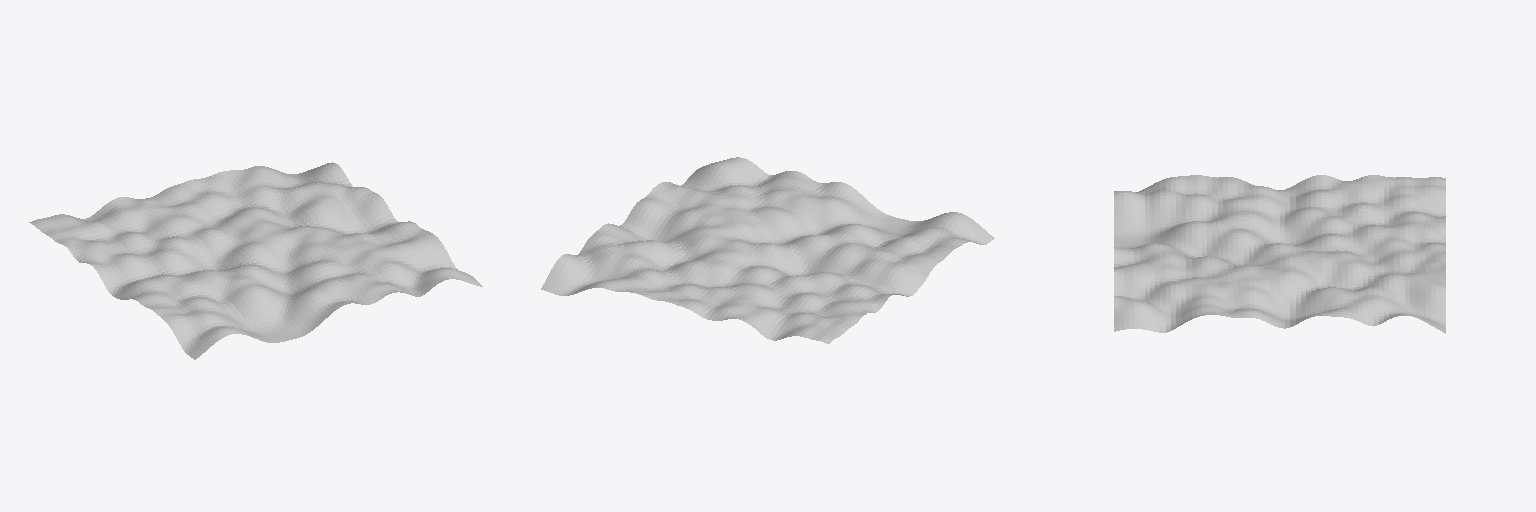
The model's file is vertex_paint_meshes.obj.
3 views of the same model, side by side, from view 1: azimuth 30°, elevation 25°; view 2: azimuth 150°, elevation 25°; view 3: azimuth 270°, elevation 25° (orthographic).
Parts seen in each view (by area): view 1: Plane.001; view 2: Plane.001; view 3: Plane.001.
Boxes of the visible parts, x1=… form: Plane.001: x1=29, y1=162, x2=482, y2=359; Plane.001: x1=541, y1=157, x2=994, y2=343; Plane.001: x1=1114, y1=175, x2=1445, y2=333.
Bounding box in the file's own units: 6 × 0.4535 × 6.